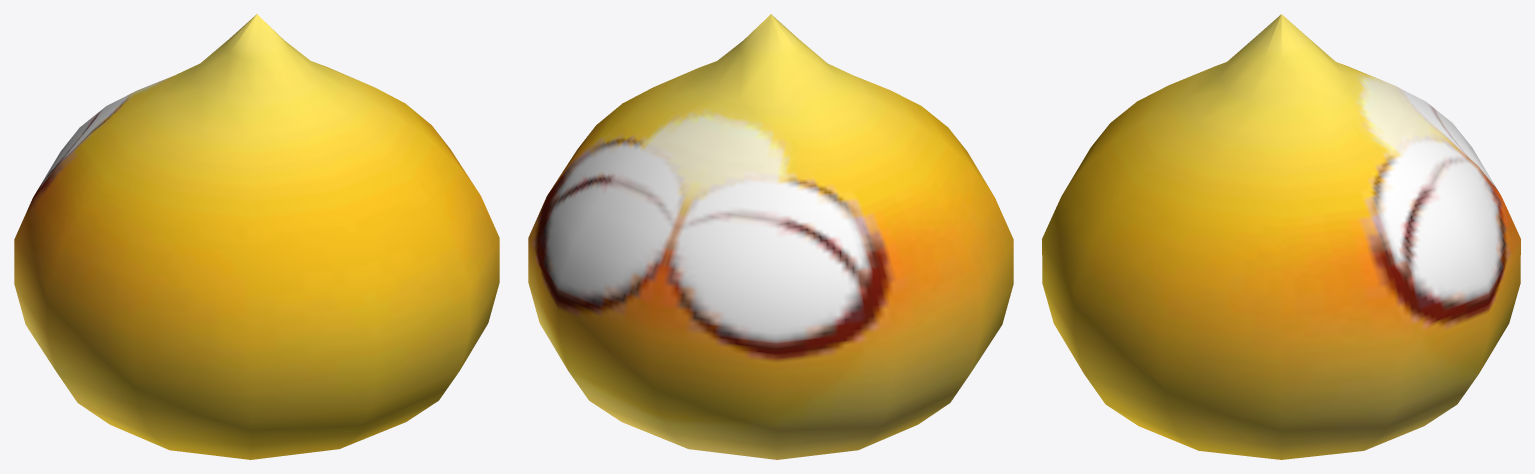
Rendered from yellowpuyo.glb.
3 renders of one model, left to right at view 1: azimuth 30°, elevation 25°; view 2: azimuth 150°, elevation 25°; view 3: azimuth 270°, elevation 25°, orthographic.
Parts seen in each view (by area): view 1: _4_0; view 2: _4_0; view 3: _4_0.
Part boxes in pixels (x1,y1,x2,y2): _4_0: (14,14,499,459); _4_0: (528,14,1013,459); _4_0: (1042,14,1520,459).
Size of the model in its own units: 1.42 by 1.34 by 1.4.
Materials: 1 (1 with a texture image).
